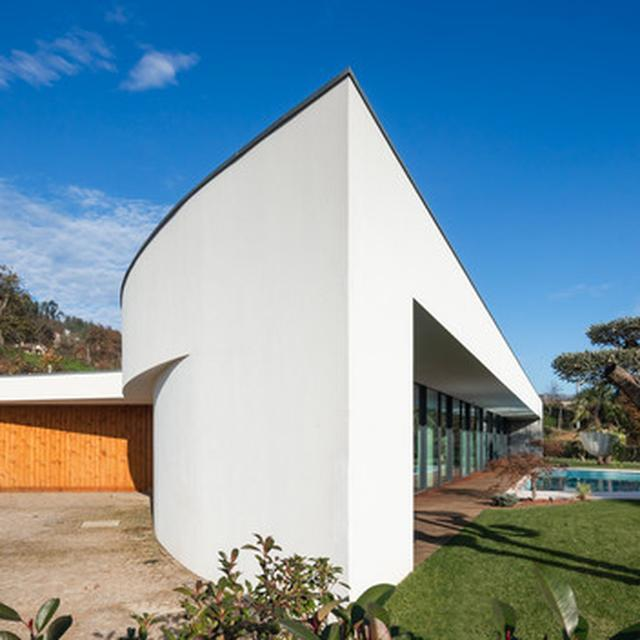building: (0, 67, 548, 619)
